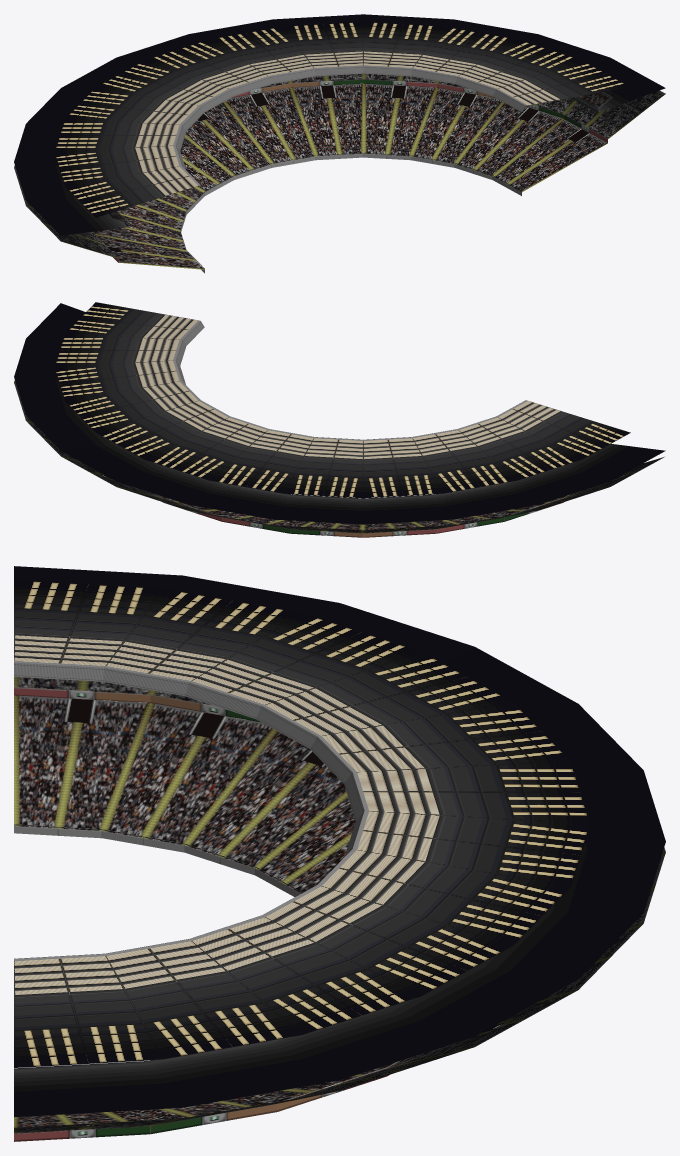
Rendered from part_01_off_01FBC.obj.
The picture shows the model from 3 angles, top to bottom: view 1: azimuth 30°, elevation 25°; view 2: azimuth 150°, elevation 25°; view 3: azimuth 270°, elevation 25°; orthographic projection. The views are drawn at different scales.
Size of the model in its own units: 169 by 23.97 by 84.73.
Materials: 12 (12 with a texture image).
